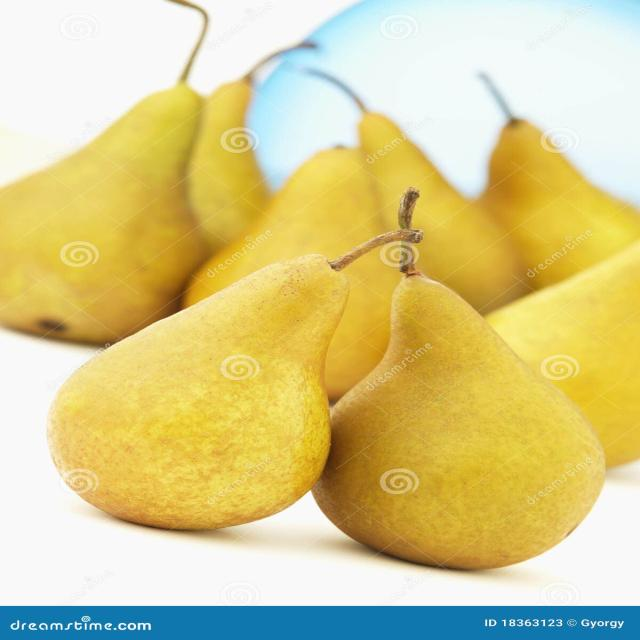pera: (40, 228, 431, 538)
